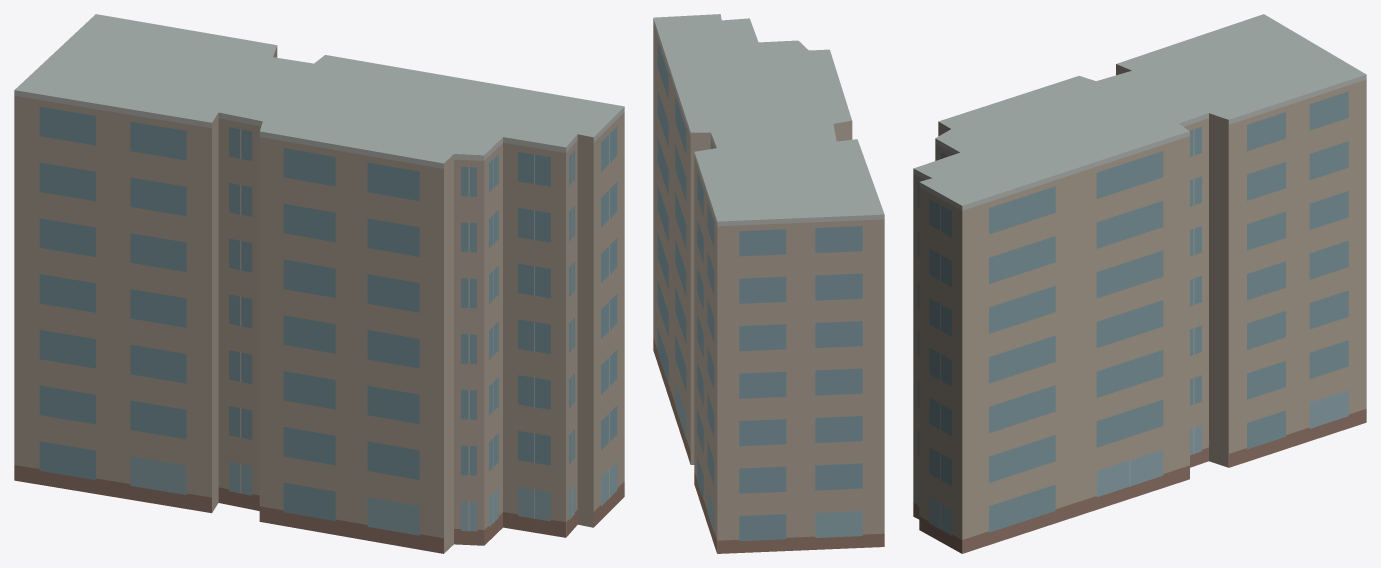
The model's file is survey-upis-32971259.glb.
The picture shows the model from 3 angles, left to right: view 1: azimuth 30°, elevation 25°; view 2: azimuth 150°, elevation 25°; view 3: azimuth 270°, elevation 25°; orthographic projection. The views are drawn at different scales.
Parts seen in each view (by area): view 1: survey-upis-32971259.tmp; view 2: survey-upis-32971259.tmp; view 3: survey-upis-32971259.tmp.
Part boxes in pixels (bbox=[...]): survey-upis-32971259.tmp: bbox=[14, 14, 624, 553]; survey-upis-32971259.tmp: bbox=[653, 14, 884, 553]; survey-upis-32971259.tmp: bbox=[913, 14, 1366, 553].
Bounding box in the file's own units: 20.34 × 17.2 × 20.31.
